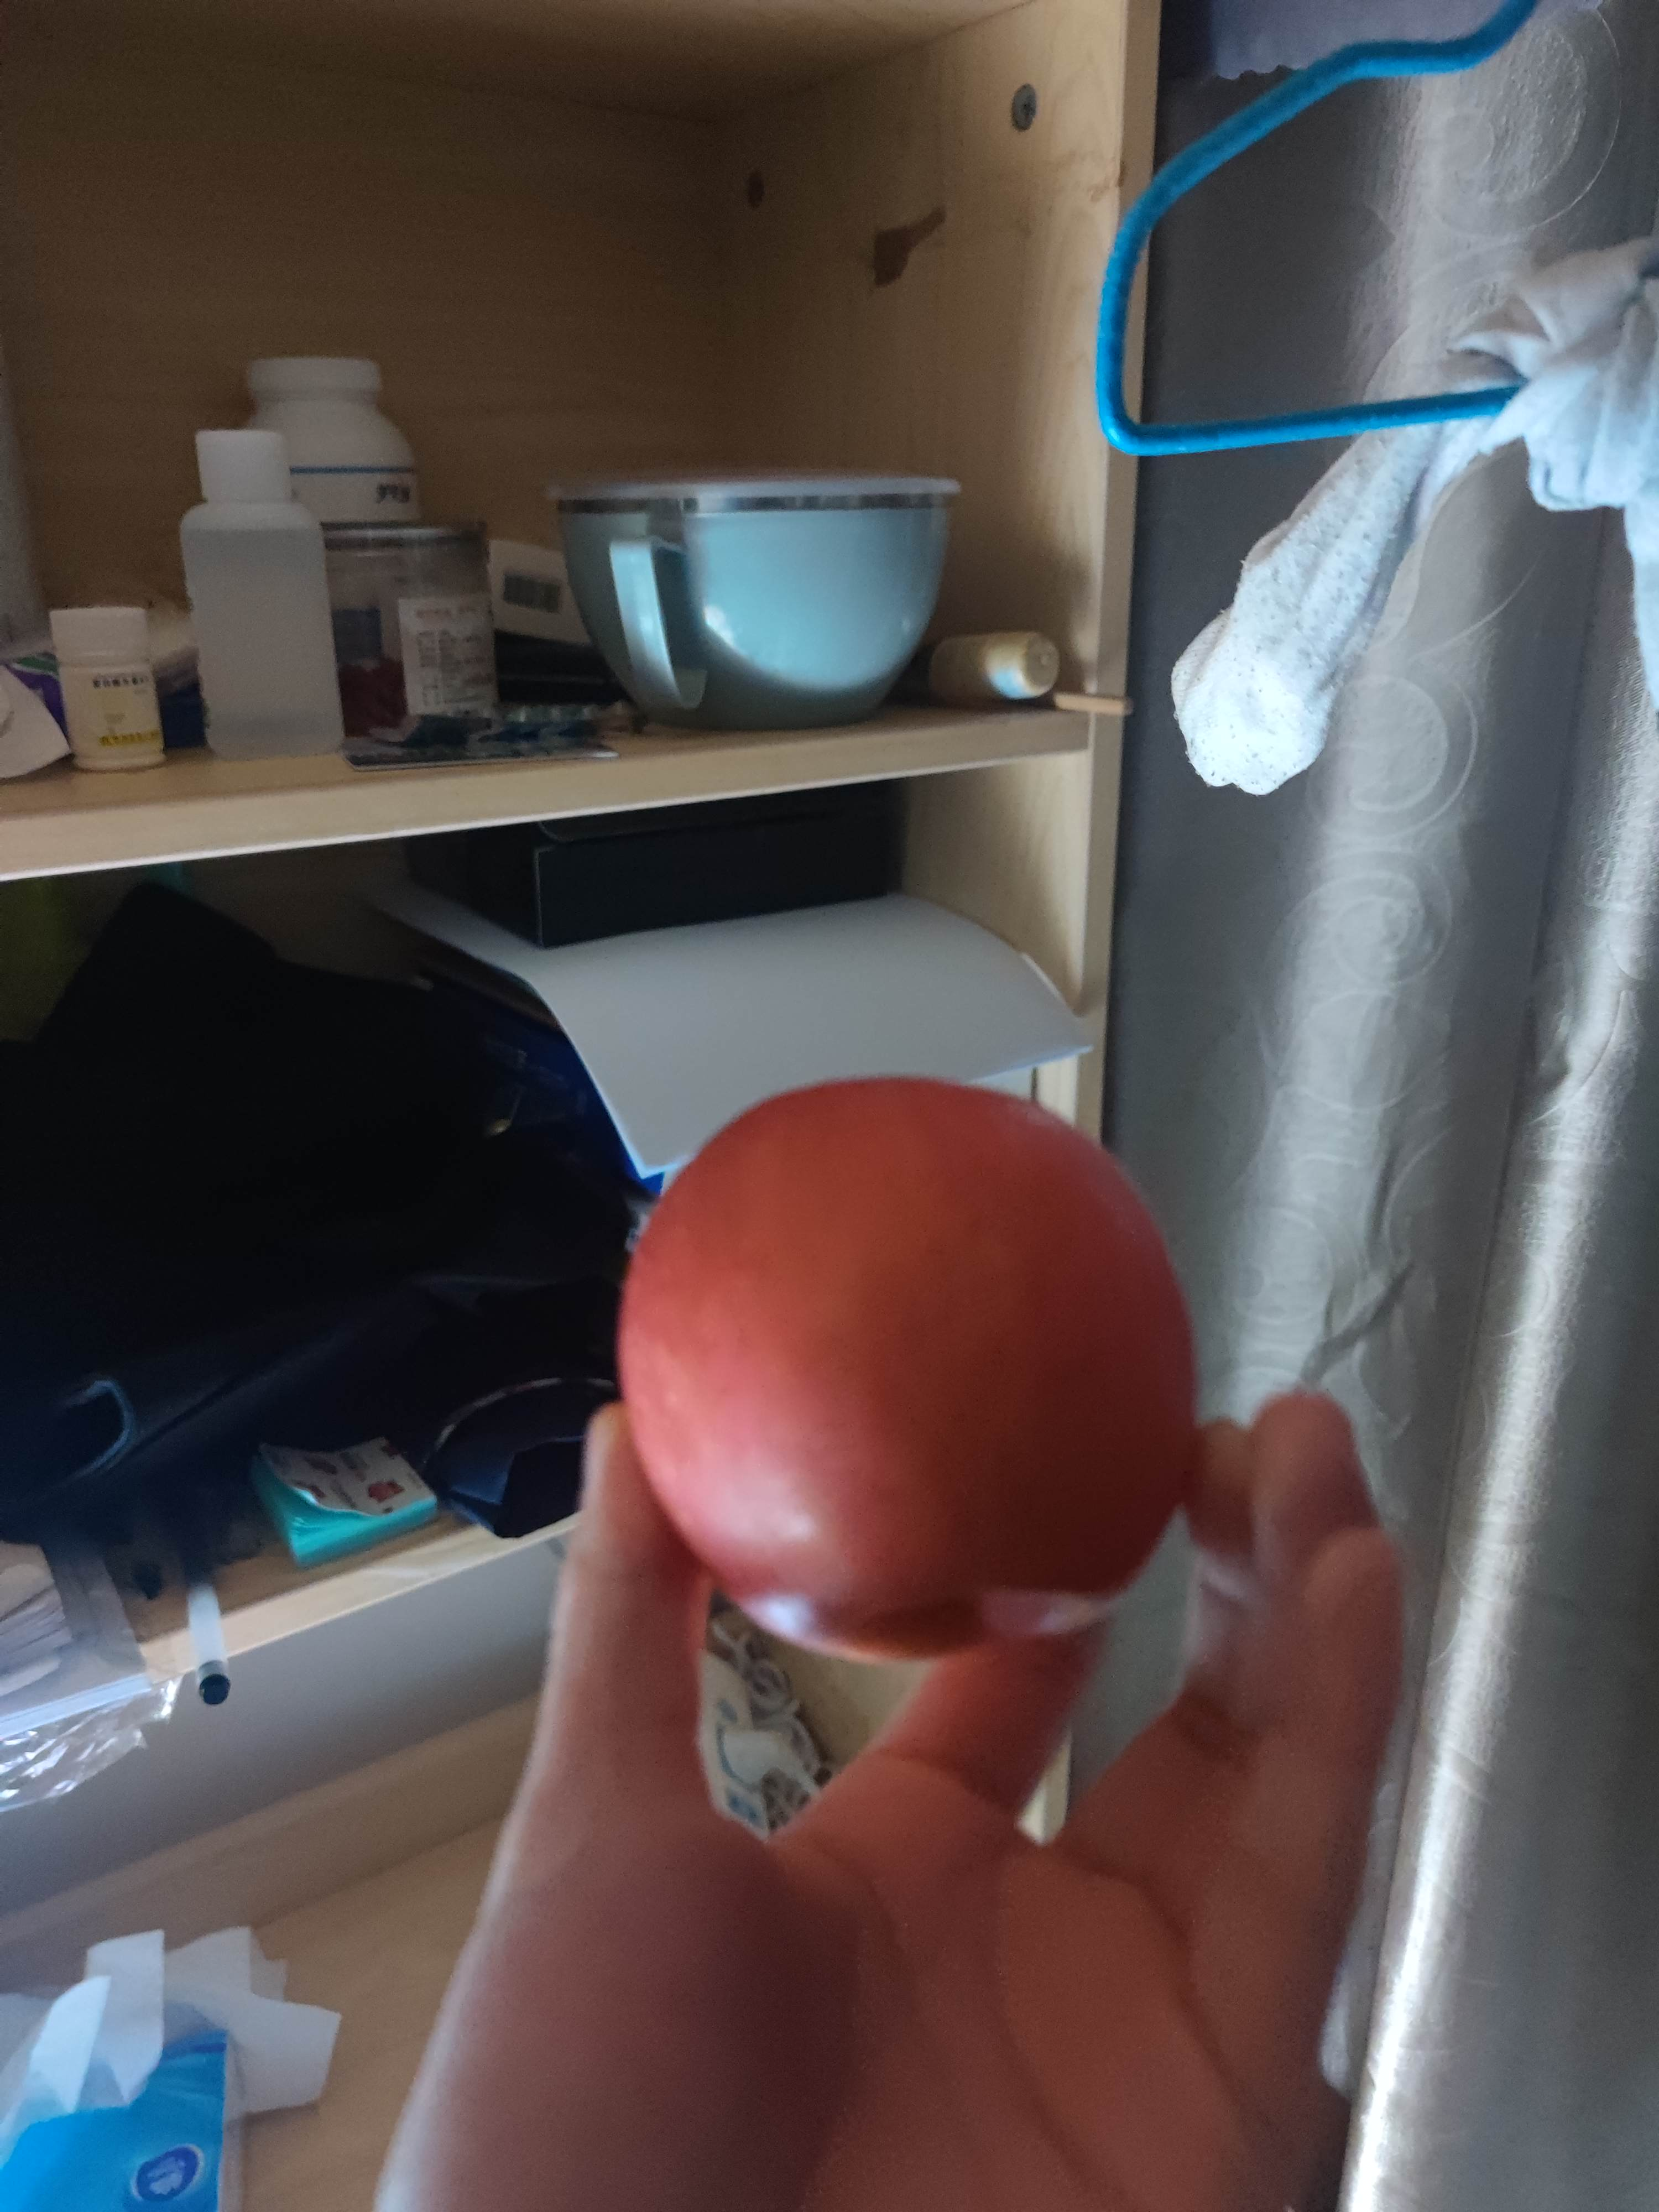apple: (619, 1069, 1202, 1669)
